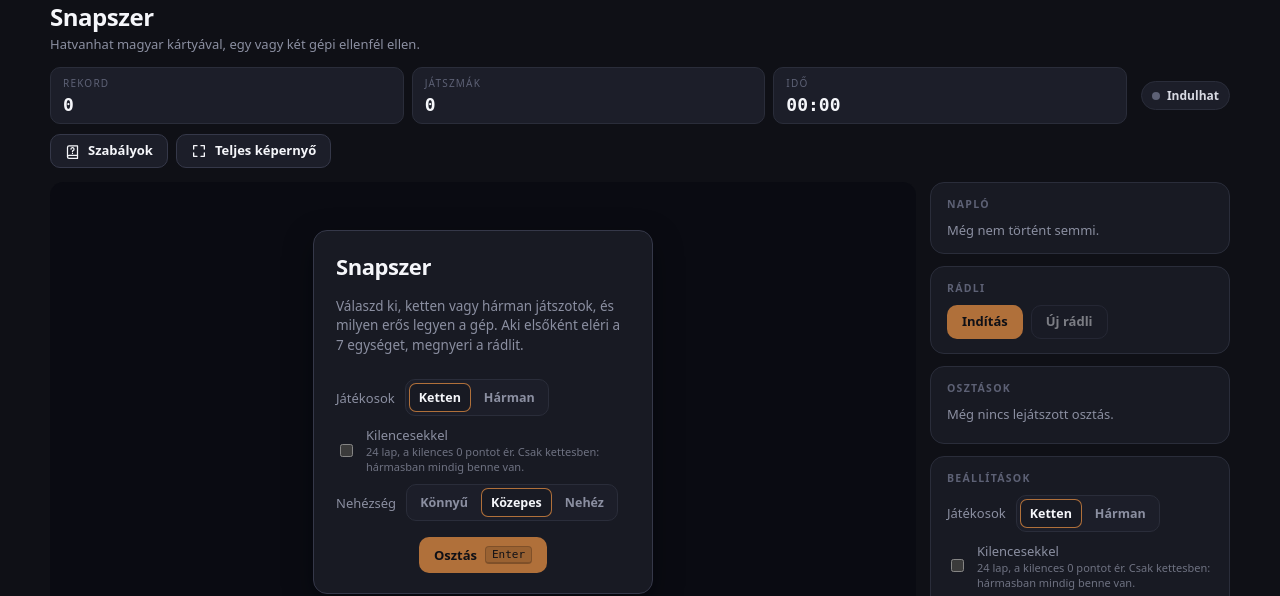
it: SnapszerGame › starts a two-player match from the setup card: five cards each, the talon with the turned-up trump
This screenshot has width=1280, height=596.
Click the button "Osztás Enter": click(483, 555) x1=419 y1=537 x2=547 y2=574
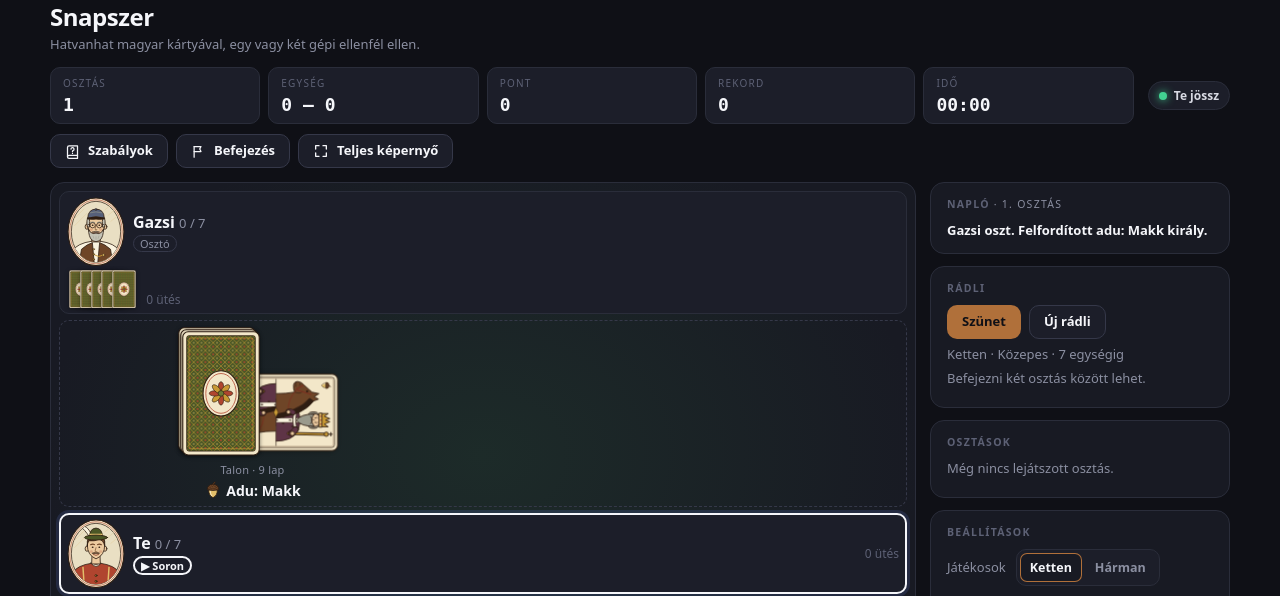
Now the element with test id "snapszer-trump-card" is shown, box x1=214 y1=374 x2=338 y2=452
Now the element with test id "snapszer-table" shows "Gazsi", box x1=133 y1=211 x2=175 y2=233
